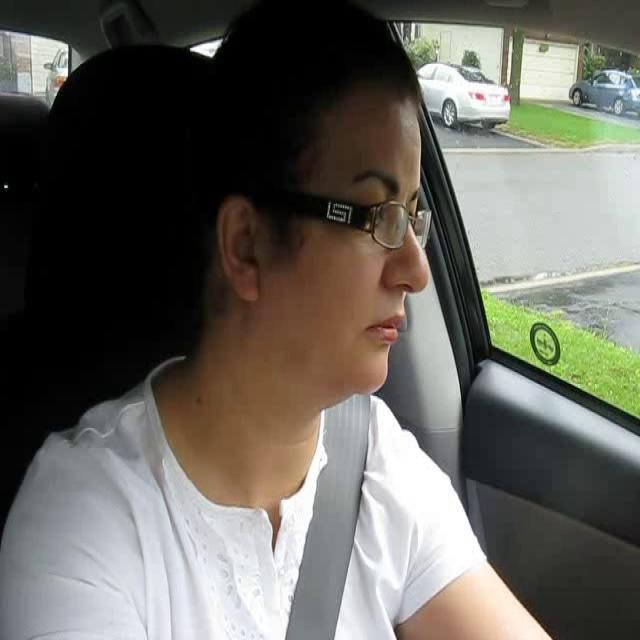close: (364, 303, 404, 348)
